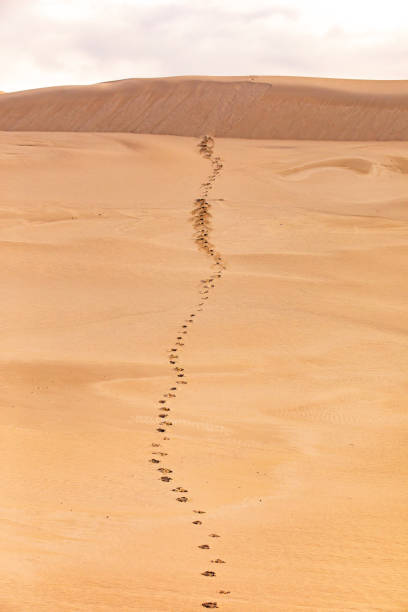human_foot_print: (156, 136, 224, 433), (201, 602, 217, 608), (202, 570, 215, 576)
